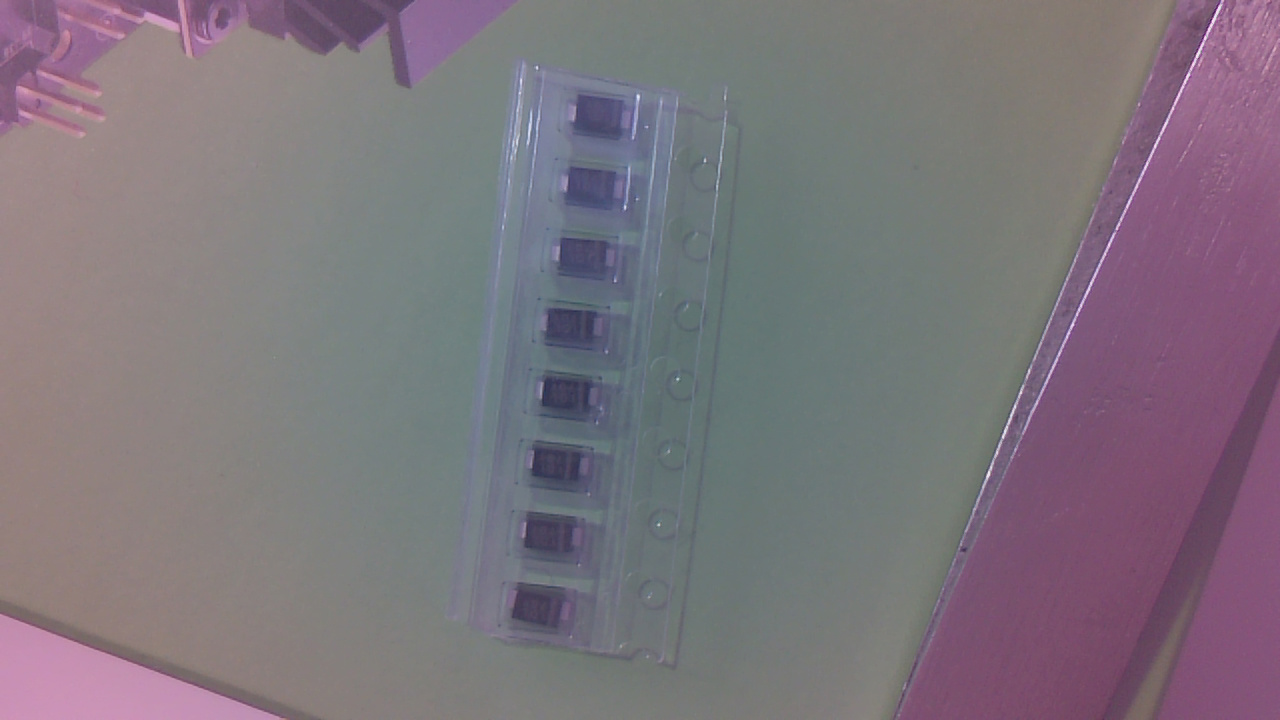Diode: (530, 446, 598, 491), (510, 590, 584, 631), (563, 172, 630, 215), (522, 519, 592, 560), (570, 100, 637, 142), (543, 311, 611, 348), (556, 241, 622, 278), (540, 379, 603, 417)
